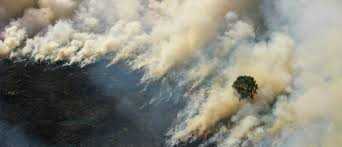smoke: (159, 61, 341, 143), (108, 8, 219, 69), (5, 1, 109, 62)
